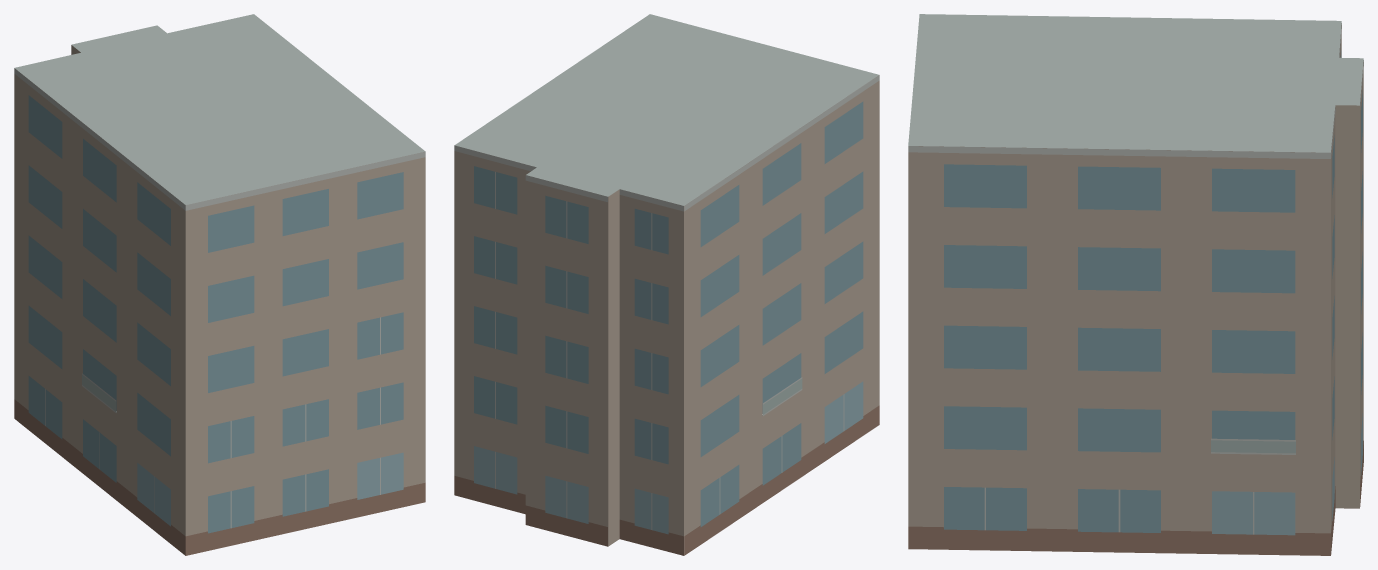
The model's file is survey-upis-32664939.glb.
The picture shows the model from 3 angles, left to right: view 1: azimuth 30°, elevation 25°; view 2: azimuth 150°, elevation 25°; view 3: azimuth 270°, elevation 25°; orthographic projection. The views are drawn at different scales.
Parts seen in each view (by area): view 1: survey-upis-32664939.tmp; view 2: survey-upis-32664939.tmp; view 3: survey-upis-32664939.tmp.
Part boxes in pixels (x1=…): survey-upis-32664939.tmp: x1=14, y1=14, x2=425, y2=555; survey-upis-32664939.tmp: x1=454, y1=14, x2=879, y2=555; survey-upis-32664939.tmp: x1=908, y1=14, x2=1363, y2=555.
Size of the model in its own units: 11.26 by 15.25 by 15.63.
